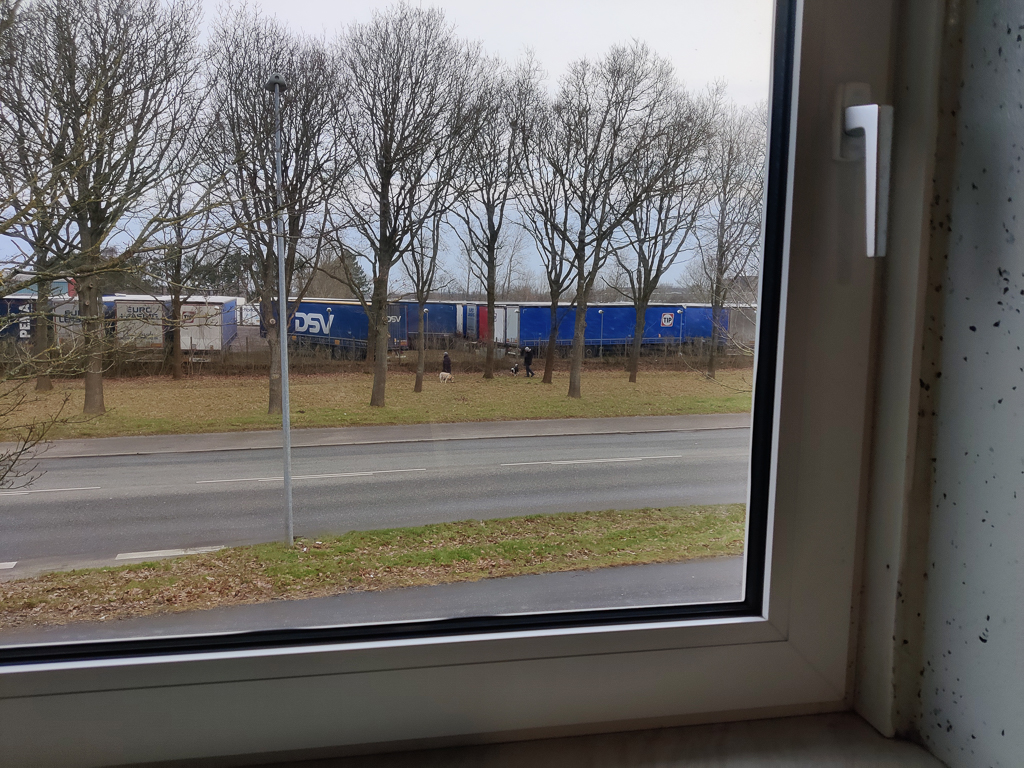Dog: (437, 371, 455, 385), (509, 363, 521, 378)
Humanoid: (521, 345, 536, 379), (439, 349, 452, 373)
